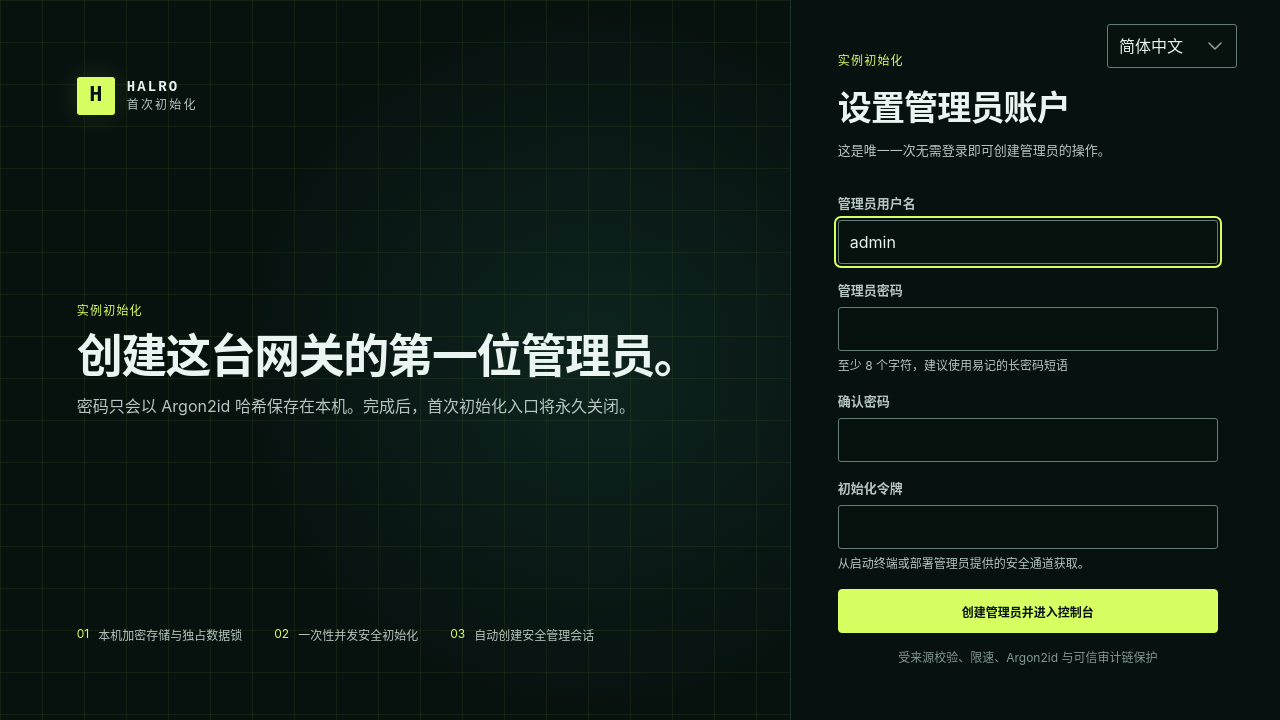
first-run setup › requires the transient token when the admin listener is public
Expected: the text "从启动终端或部署管理员提供的安全通道获取。" is shown, [838,556,1090,571]
Type "a strong local password" into the password field labelled "管理员密码 至少 8 个字符，建议使用易记的长密码短语". click: {"x": 1028, "y": 329}
box: [838,307,1218,351]
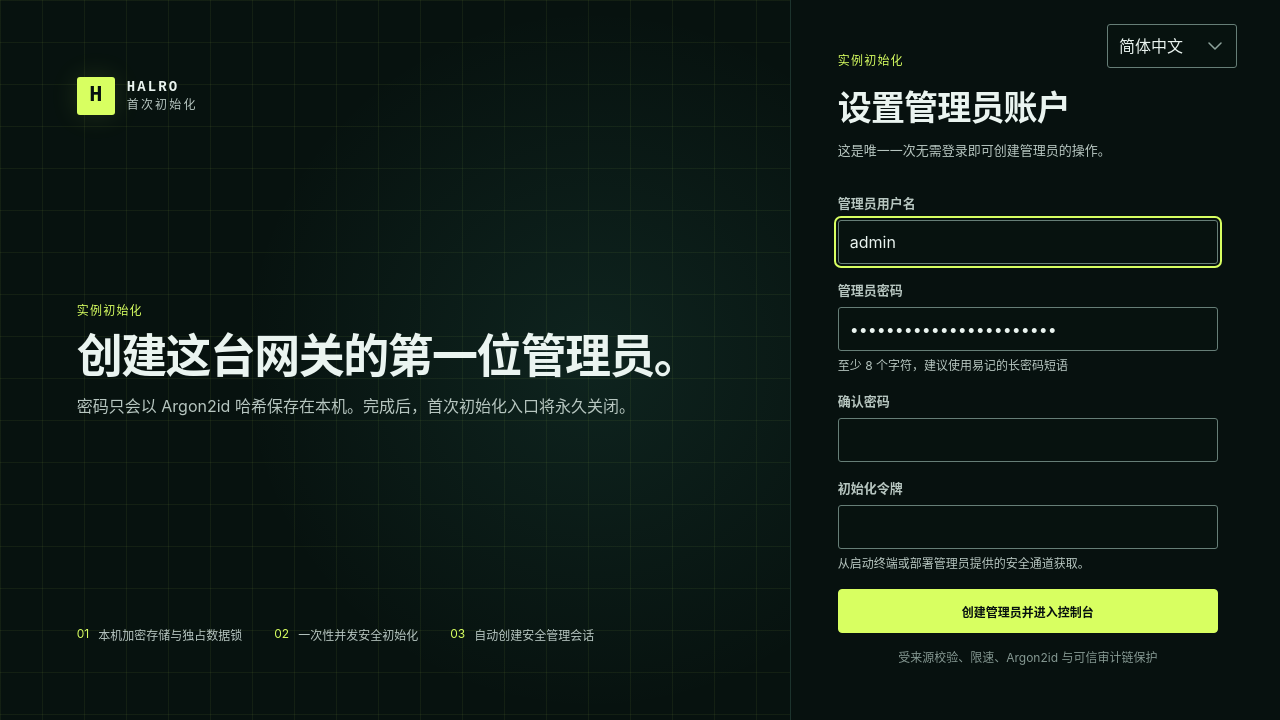
Type "a strong local password" into the password field labelled "确认密码". click: {"x": 1028, "y": 440}
box: [838,418,1218,462]
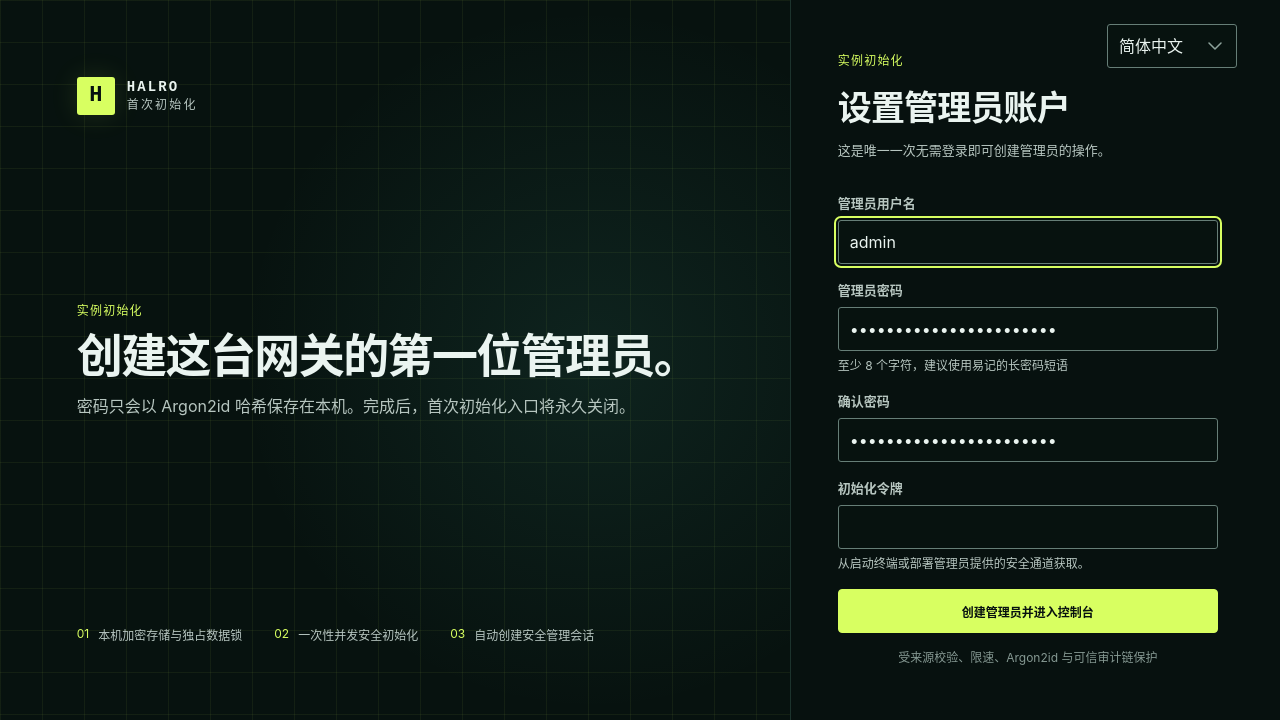
Click the button "创建管理员并进入控制台". click: {"x": 1028, "y": 611}
box: [838,589,1218,633]
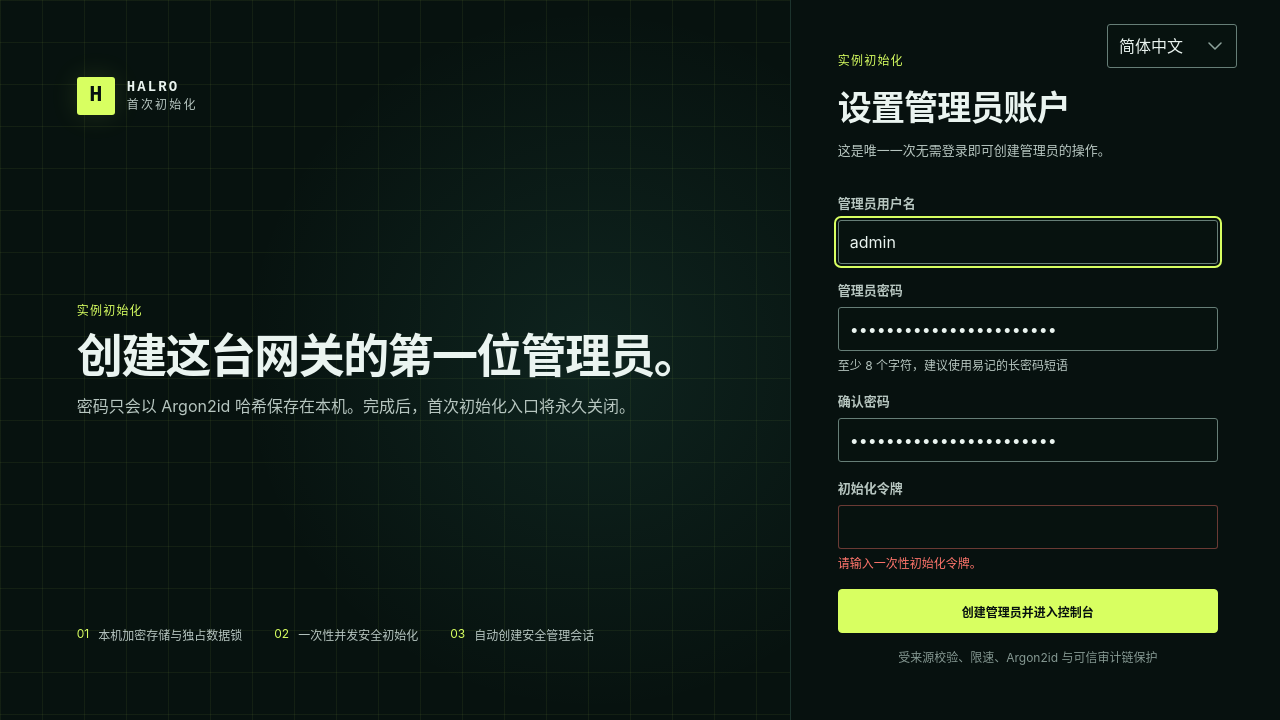
Now the text "请输入一次性初始化令牌。" is shown, box [838,556,982,571]
